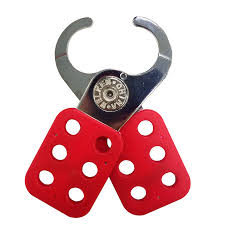hasp: (21, 16, 193, 217)
